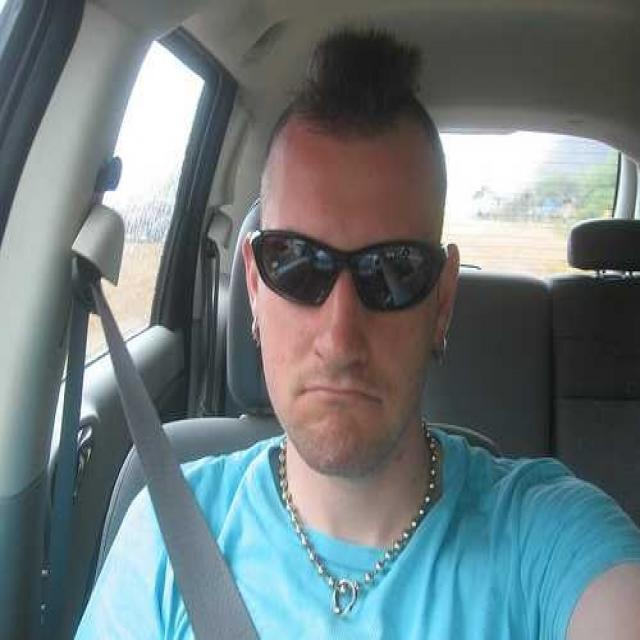seatbelt: (45, 249, 237, 584)
